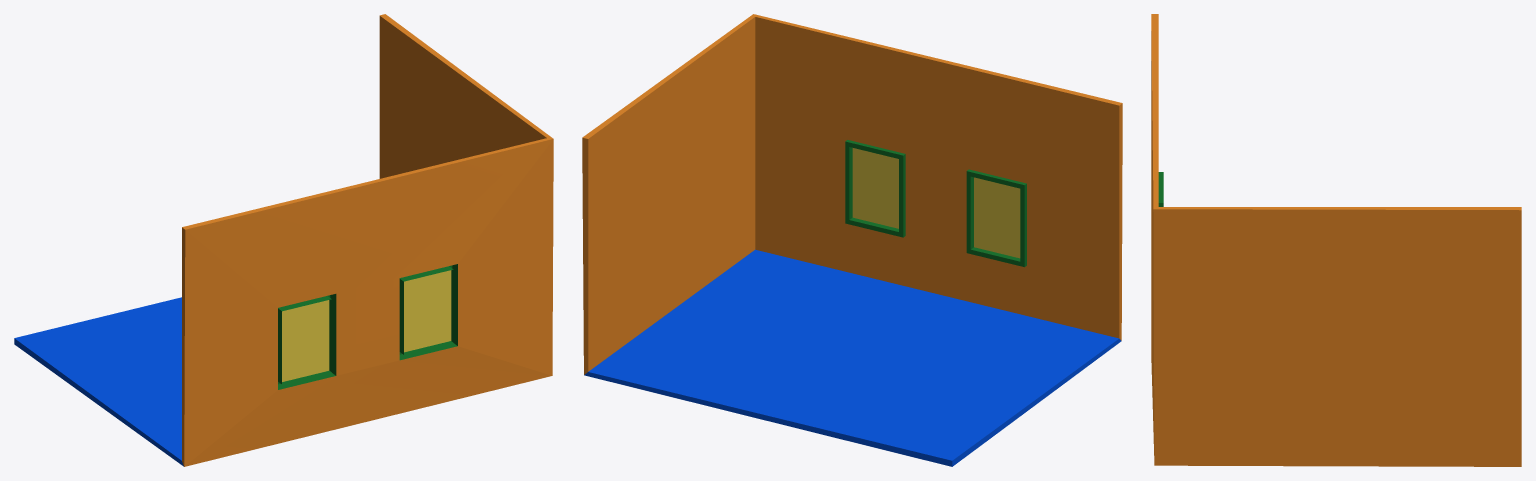
Rendered from Room Texturing.fbx.
The picture shows the model from 3 angles, left to right: view 1: azimuth 30°, elevation 25°; view 2: azimuth 150°, elevation 25°; view 3: azimuth 270°, elevation 25°; orthographic projection. The views are drawn at different scales.
Parts seen in each view (by area): view 1: Room; view 2: Room; view 3: Room.
Boxes of the visible parts, x1,y1,x2,y2 form: Room: [14, 14, 553, 466]; Room: [582, 14, 1122, 466]; Room: [1151, 14, 1521, 466].
Bounding box in the file's own units: 499 × 308 × 398.
